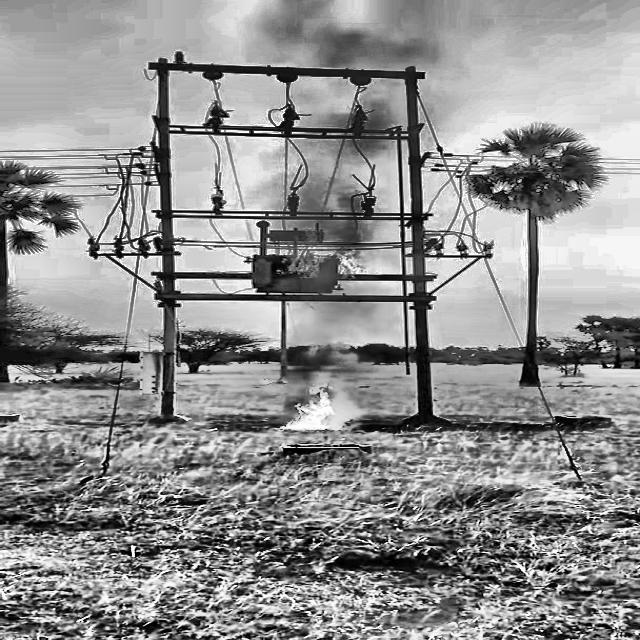Fire: (267, 216, 372, 296), (263, 372, 355, 440)
